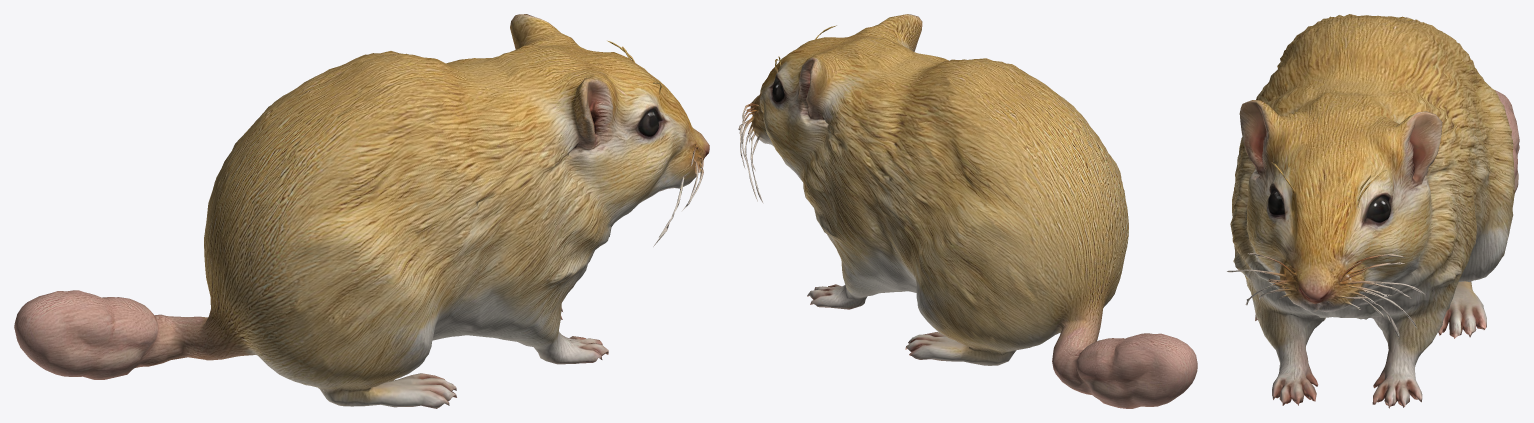
File: gerbil.glb
The picture shows the model from 3 angles, left to right: view 1: azimuth 30°, elevation 25°; view 2: azimuth 150°, elevation 25°; view 3: azimuth 270°, elevation 25°; orthographic projection. The views are drawn at different scales.
Visible parts, largest first — view 1: tripo_node_41951462-eac1-4b16-8756-c4f23ad97527; view 2: tripo_node_41951462-eac1-4b16-8756-c4f23ad97527; view 3: tripo_node_41951462-eac1-4b16-8756-c4f23ad97527.
Boxes of the visible parts, x1=… form: tripo_node_41951462-eac1-4b16-8756-c4f23ad97527: x1=14, y1=14, x2=709, y2=408; tripo_node_41951462-eac1-4b16-8756-c4f23ad97527: x1=738, y1=14, x2=1197, y2=408; tripo_node_41951462-eac1-4b16-8756-c4f23ad97527: x1=1227, y1=14, x2=1519, y2=408.
Bounding box in the file's own units: 1 × 0.4851 × 0.4245.
Materials: 1 (1 with a texture image).
